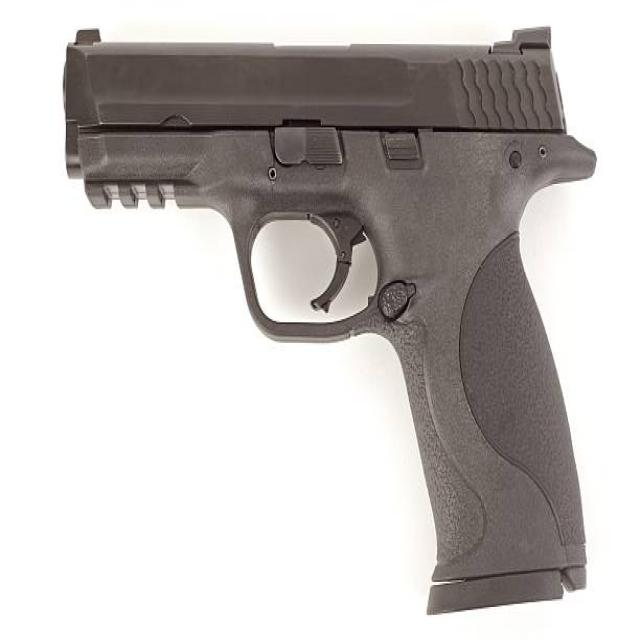pistol: (58, 11, 605, 625)
